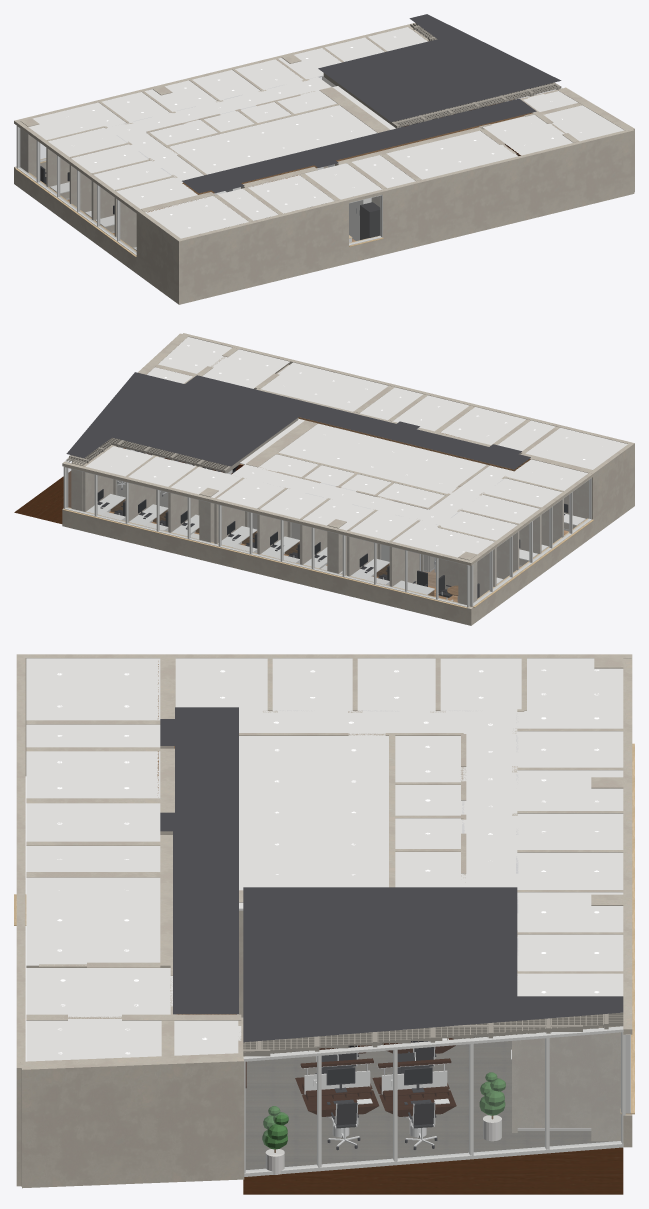
The model's file is office.glb.
The picture shows the model from 3 angles, top to bottom: view 1: azimuth 30°, elevation 25°; view 2: azimuth 150°, elevation 25°; view 3: azimuth 270°, elevation 25°; orthographic projection. The views are drawn at different scales.
Visible parts, largest first — view 1: LM_walls, CEIL_LM_flat, CEIL_LM_grid, CEIL_LM_louver, GL_window, LM_trim, LM_furniture, LM_furniture2; view 2: CEIL_LM_flat, LM_walls, GL_window, CEIL_LM_grid, CEIL_LM_louver, LM_trim, LM_furniture, LM_floor, LM_furniture2, GL_frosted; view 3: CEIL_LM_flat, LM_walls, CEIL_LM_grid, GL_window, LM_floor, CEIL_LM_louver, LM_trim, LM_furniture2, LM_furniture, CEIL_fixtures.
Boxes of the visible parts, x1=… form: LM_walls: x1=14, y1=23, x2=634, y2=304; CEIL_LM_flat: x1=28, y1=27, x2=624, y2=238; CEIL_LM_grid: x1=318, y1=14, x2=561, y2=128; CEIL_LM_louver: x1=182, y1=98, x2=536, y2=194; GL_window: x1=19, y1=91, x2=548, y2=252; LM_trim: x1=16, y1=75, x2=562, y2=255; LM_furniture: x1=50, y1=79, x2=519, y2=250; LM_furniture2: x1=40, y1=106, x2=487, y2=239; CEIL_LM_flat: x1=86, y1=337, x2=627, y2=557; LM_walls: x1=62, y1=333, x2=634, y2=625; GL_window: x1=66, y1=448, x2=589, y2=605; CEIL_LM_grid: x1=66, y1=372, x2=303, y2=473; CEIL_LM_louver: x1=185, y1=375, x2=530, y2=471; LM_trim: x1=63, y1=428, x2=592, y2=607; LM_furniture: x1=86, y1=428, x2=585, y2=601; LM_floor: x1=14, y1=448, x2=568, y2=602; LM_furniture2: x1=97, y1=448, x2=568, y2=601; GL_frosted: x1=116, y1=480, x2=435, y2=586; CEIL_LM_flat: x1=26, y1=658, x2=623, y2=1061; LM_walls: x1=14, y1=654, x2=634, y2=1188; CEIL_LM_grid: x1=243, y1=887, x2=623, y2=1056; GL_window: x1=246, y1=1032, x2=621, y2=1171; LM_floor: x1=176, y1=1014, x2=623, y2=1194; CEIL_LM_louver: x1=160, y1=707, x2=238, y2=1014; LM_trim: x1=243, y1=710, x2=630, y2=1176; LM_furniture2: x1=262, y1=1038, x2=511, y2=1174; LM_furniture: x1=157, y1=661, x2=517, y2=1137; CEIL_fixtures: x1=57, y1=669, x2=599, y2=1054.
Size of the model in its own units: 20.75 by 3.07 by 12.88.
40 materials, 10 textured.
